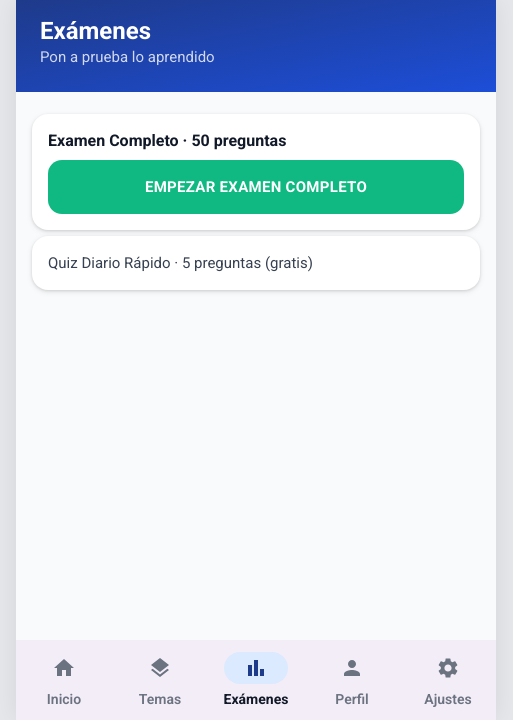
Scenario: free tier › allows one daily quiz per day
The image size is (513, 720).
Click the button "Quiz Diario Rápido · 5 preguntas (gratis)" at [256, 263], box [32,236,480,290]
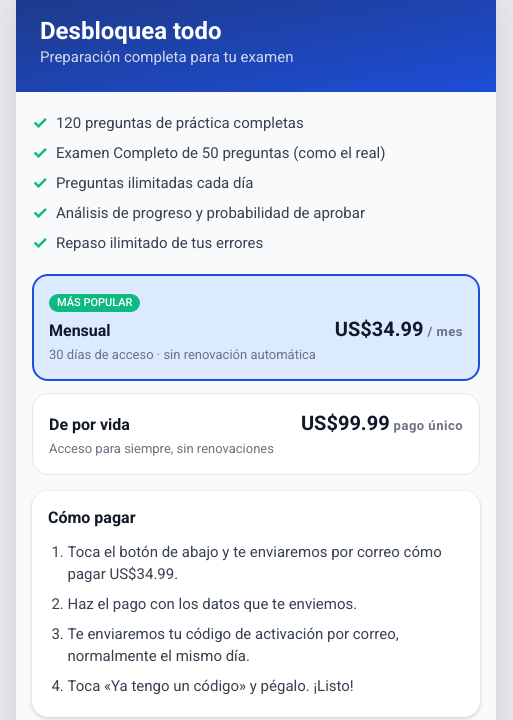
Now the heading "Desbloquea todo" is shown, box [40,17,222,45]
